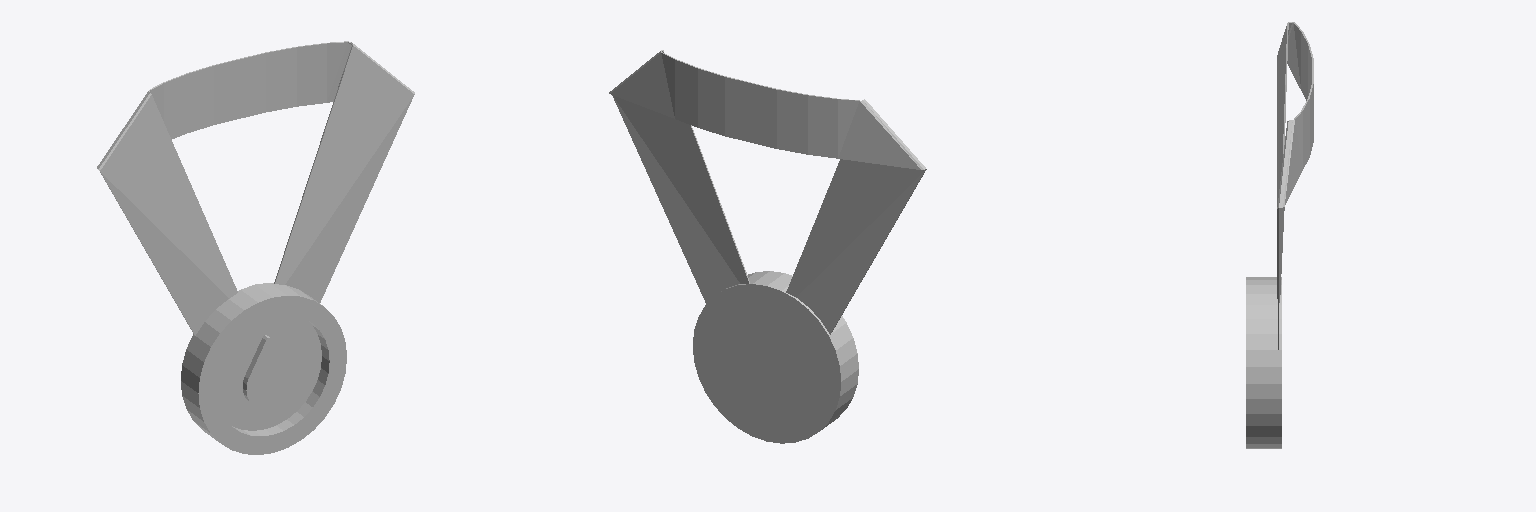
File: WaterMedal.obj
3 views of the same model, side by side, from view 1: azimuth 30°, elevation 25°; view 2: azimuth 150°, elevation 25°; view 3: azimuth 270°, elevation 25° (orthographic).
Visible parts, largest first — view 1: MedalFabric.003_Plane.006, MedalWater_Circle, DropMedal_Plane.005; view 2: MedalFabric.003_Plane.006, MedalWater_Circle; view 3: MedalWater_Circle, MedalFabric.003_Plane.006.
Part boxes in pixels (left/top/right/bottom): MedalFabric.003_Plane.006: left=97, top=41, right=414, bottom=335; MedalWater_Circle: left=181, top=283, right=346, bottom=454; DropMedal_Plane.005: left=243, top=335, right=291, bottom=407; MedalFabric.003_Plane.006: left=609, top=50, right=926, bottom=334; MedalWater_Circle: left=693, top=271, right=858, bottom=443; MedalWater_Circle: left=1246, top=277, right=1281, bottom=448; MedalFabric.003_Plane.006: left=1277, top=22, right=1313, bottom=349.
Size of the model in its own units: 4.25 by 4.75 by 0.7827.